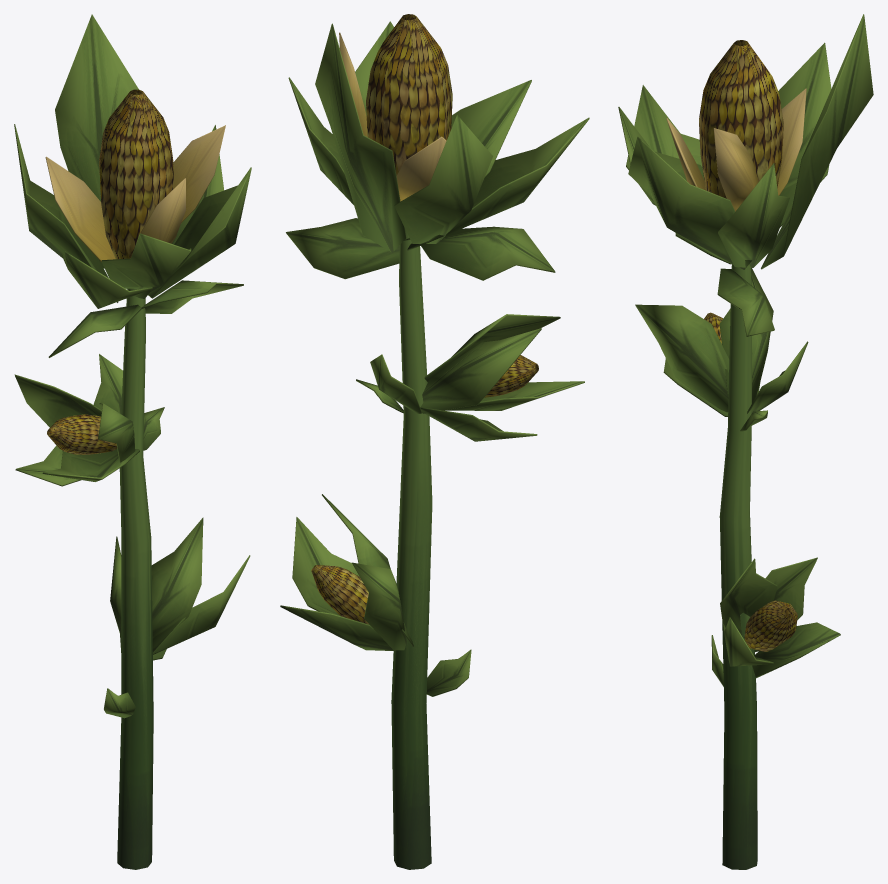
The model's file is Maiz_03.fbx.
The picture shows the model from 3 angles, left to right: view 1: azimuth 30°, elevation 25°; view 2: azimuth 150°, elevation 25°; view 3: azimuth 270°, elevation 25°; orthographic projection. The views are drawn at different scales.
Parts seen in each view (by area): view 1: Maiz_3; view 2: Maiz_3; view 3: Maiz_3.
Part boxes in pixels (bbox=[...]): Maiz_3: bbox=[14, 14, 251, 869]; Maiz_3: bbox=[280, 14, 589, 869]; Maiz_3: bbox=[618, 14, 873, 869].
Size of the model in its own units: 43.7 by 141 by 38.22.
